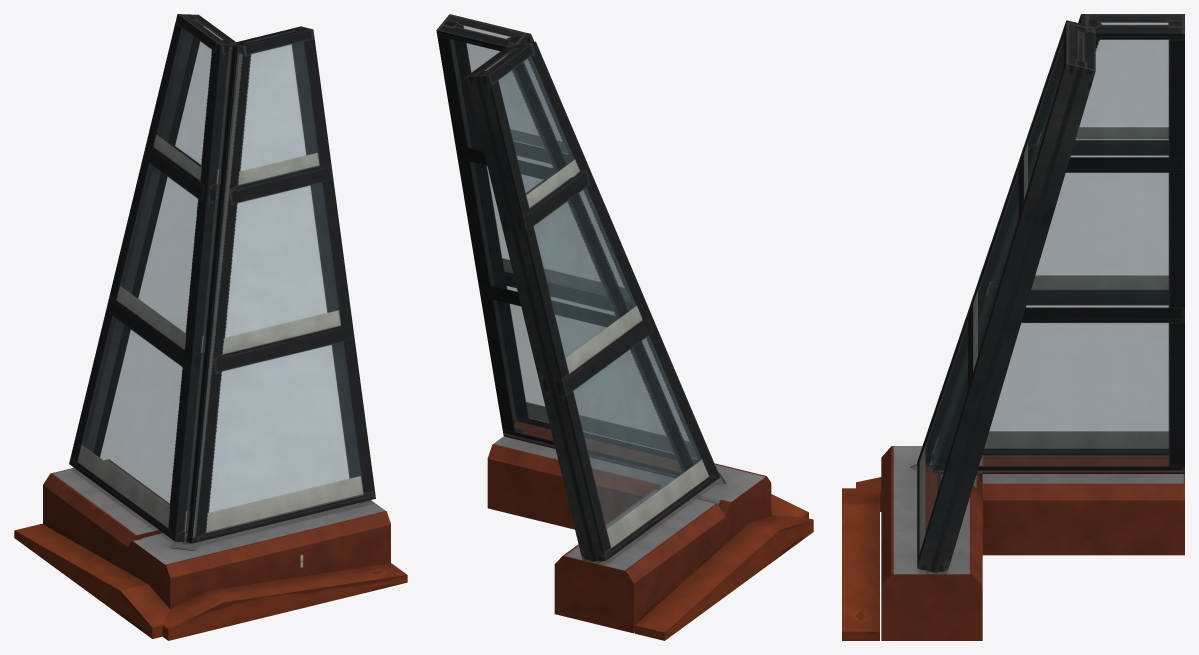
The model's file is dome_corner.glb.
3 renders of one model, left to right at view 1: azimuth 30°, elevation 25°; view 2: azimuth 150°, elevation 25°; view 3: azimuth 270°, elevation 25°, orthographic. The views are drawn at different scales.
Visible parts, largest first — view 1: dome_corner; view 2: dome_corner; view 3: dome_corner.
Boxes of the visible parts, x1,y1,x2,y2 form: dome_corner: (14,14,407,640); dome_corner: (436,14,813,640); dome_corner: (842,14,1184,640).
Bounding box in the file's own units: 2.71 × 5.03 × 2.71.
Materials: 1 (1 with a texture image).
